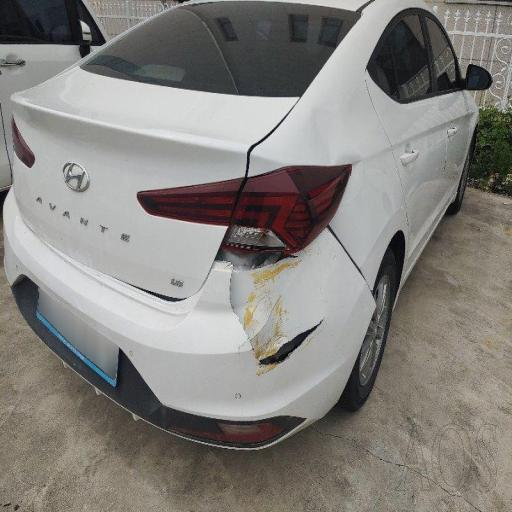broken: (183, 153, 345, 395)
scratch: (254, 245, 309, 341)
